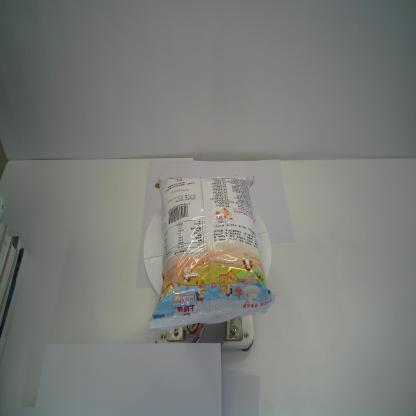Puffed Food: (148, 174, 277, 332)
